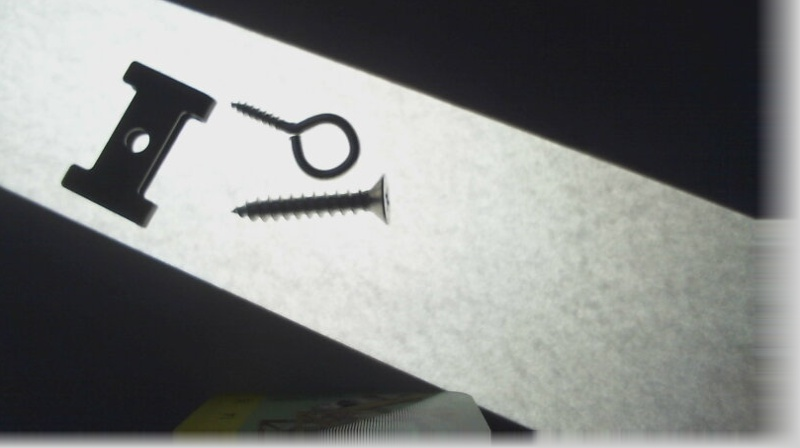O001: (227, 96, 361, 182)
O002: (58, 58, 216, 228)
S001: (229, 173, 397, 231)
